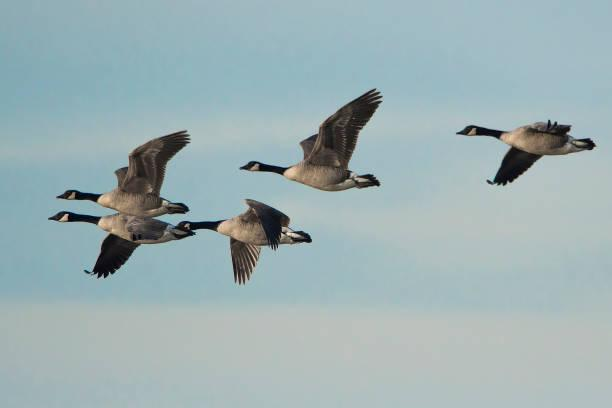Canadian-Goose: (239, 87, 381, 192), (175, 197, 312, 280), (57, 128, 191, 212), (454, 115, 595, 187), (48, 210, 193, 276)
